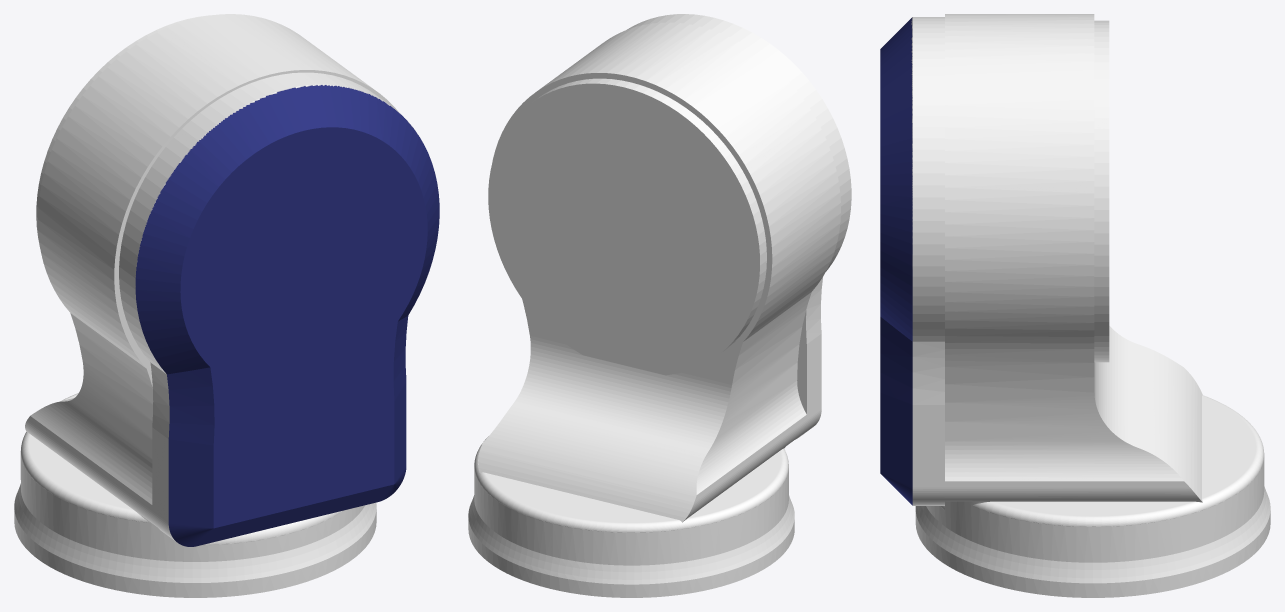
3 renders of one model, left to right at view 1: azimuth 30°, elevation 25°; view 2: azimuth 150°, elevation 25°; view 3: azimuth 270°, elevation 25°, orthographic. The views are drawn at different scales.
Visible parts, largest first — view 1: Link_S; view 2: Link_S; view 3: Link_S.
Boxes of the visible parts, bbox=[...] form: Link_S: bbox=[14, 14, 439, 597]; Link_S: bbox=[468, 14, 851, 597]; Link_S: bbox=[880, 14, 1270, 597].
Bounding box in the file's own units: 0.132 × 0.1451 × 0.202.
Materials: 1 (1 with a texture image).
